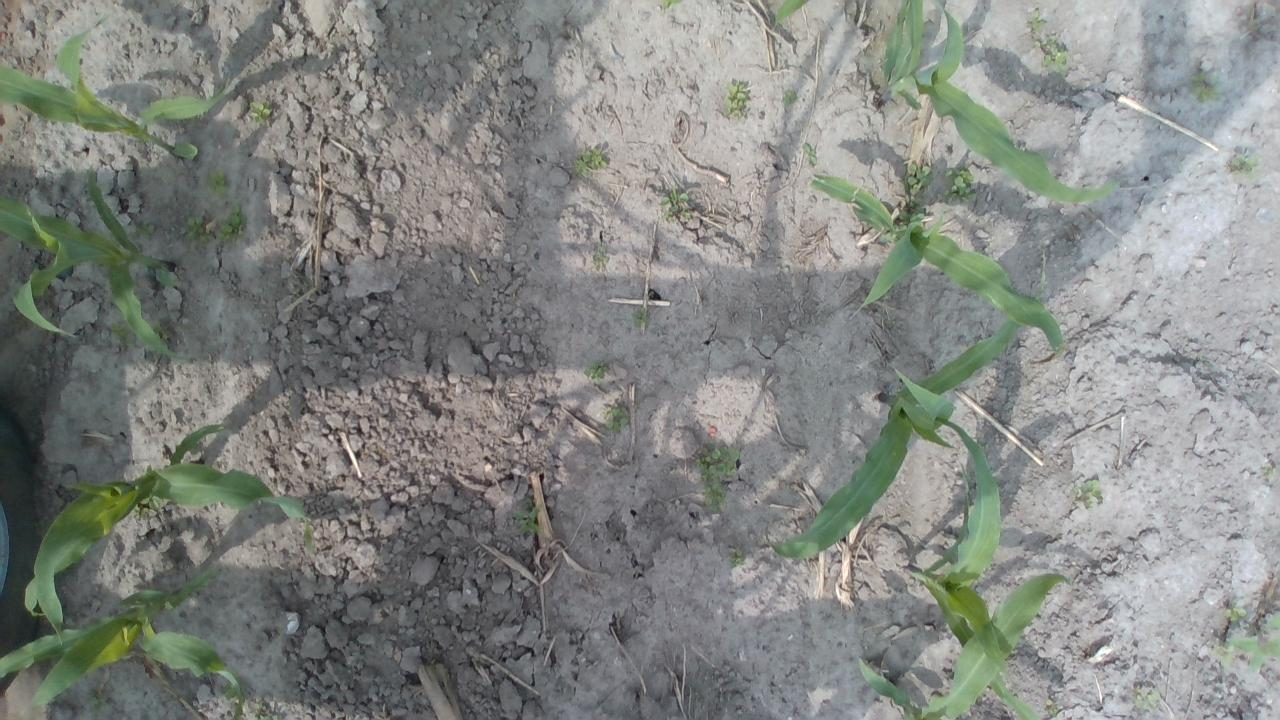Maize: (768, 250, 1052, 562), (21, 422, 315, 643), (878, 0, 1120, 207), (809, 170, 1062, 362), (898, 422, 1038, 720), (0, 569, 245, 720), (0, 170, 190, 362), (850, 569, 1070, 720), (0, 22, 229, 160), (774, 0, 811, 21)
Weeds: (1230, 613, 1280, 671), (694, 443, 741, 479), (1038, 36, 1070, 80), (942, 166, 978, 204), (658, 184, 692, 222), (216, 202, 248, 242), (723, 80, 750, 121), (516, 497, 544, 535), (1074, 478, 1106, 511), (903, 161, 933, 196), (572, 149, 608, 177), (1231, 152, 1264, 182), (110, 320, 137, 352), (1192, 71, 1220, 101), (186, 215, 214, 243), (206, 168, 231, 199), (899, 195, 926, 223), (606, 406, 632, 434), (86, 688, 112, 716), (704, 479, 726, 512), (1135, 686, 1161, 712), (583, 358, 609, 382), (1210, 641, 1236, 665), (250, 100, 274, 124), (130, 222, 154, 242), (152, 320, 172, 344), (1026, 8, 1046, 31), (633, 305, 649, 329), (801, 142, 817, 166), (1224, 607, 1248, 623), (592, 246, 610, 267), (253, 704, 276, 720), (728, 548, 746, 568), (784, 90, 800, 108), (223, 683, 237, 702), (148, 494, 164, 509), (1046, 700, 1059, 718), (132, 502, 144, 521), (661, 0, 680, 9), (1263, 466, 1277, 476)
